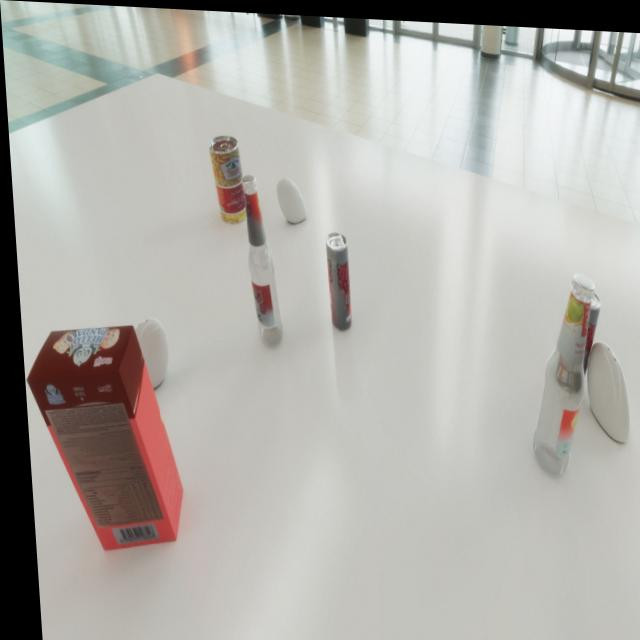Bottle: (517, 265, 601, 473), (239, 171, 280, 345)
HelloPanda: (18, 320, 180, 553)
Potato_sticks: (206, 132, 246, 222)
Rita_zero_sugar: (547, 278, 602, 389), (322, 229, 349, 329)
Salt: (580, 334, 626, 436), (118, 315, 166, 392), (274, 174, 305, 221)
